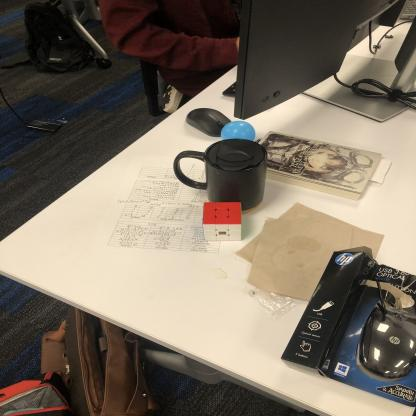SolvedCube: (202, 200, 242, 244)
